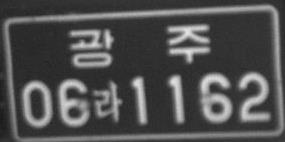0: (18, 77, 55, 130)
1: (123, 74, 155, 127), (162, 72, 193, 125)
2: (237, 69, 273, 125)
6: (197, 70, 235, 125), (56, 76, 91, 129)
광주_D: (65, 20, 214, 70)
라: (91, 77, 123, 126)
